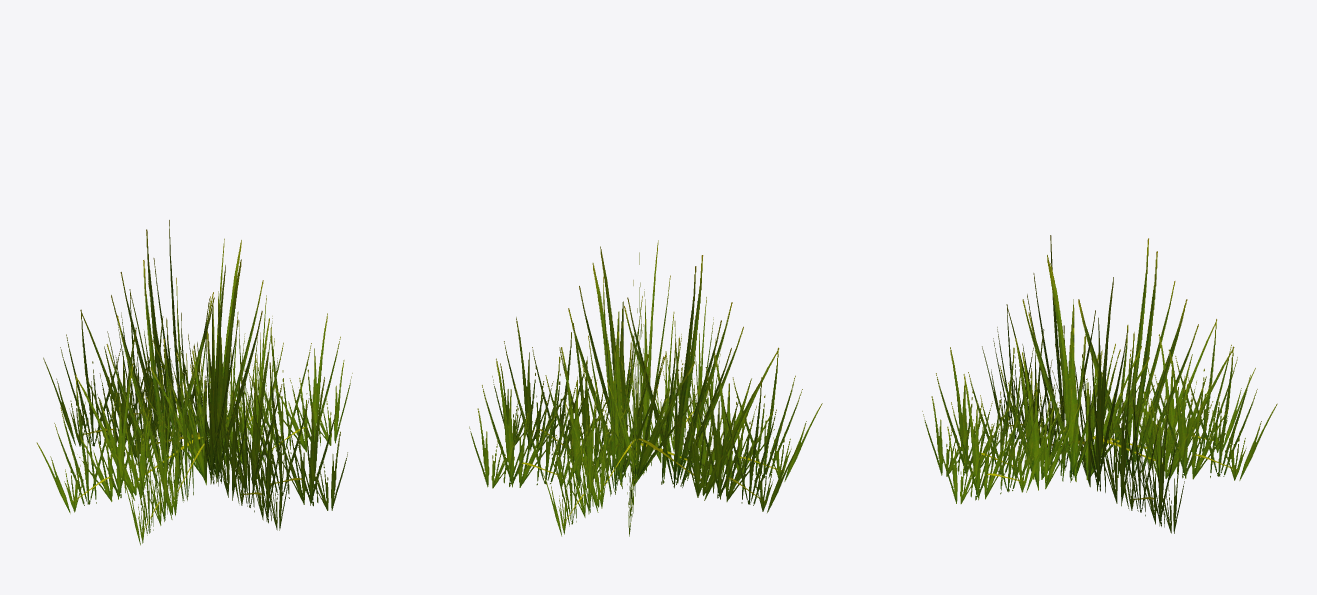
The model's file is grass1.fbx.
3 views of the same model, side by side, from view 1: azimuth 30°, elevation 25°; view 2: azimuth 150°, elevation 25°; view 3: azimuth 270°, elevation 25° (orthographic). The views are drawn at different scales.
Visible parts, largest first — view 1: Plane.003; view 2: Plane.003; view 3: Plane.003.
Part boxes in pixels (x1=…): Plane.003: x1=36, y1=220, x2=352, y2=545; Plane.003: x1=469, y1=240, x2=822, y2=536; Plane.003: x1=922, y1=235, x2=1277, y2=533.
Size of the model in its own units: 0.2341 by 0.2341 by 0.2379.
1 material, 1 textured.
